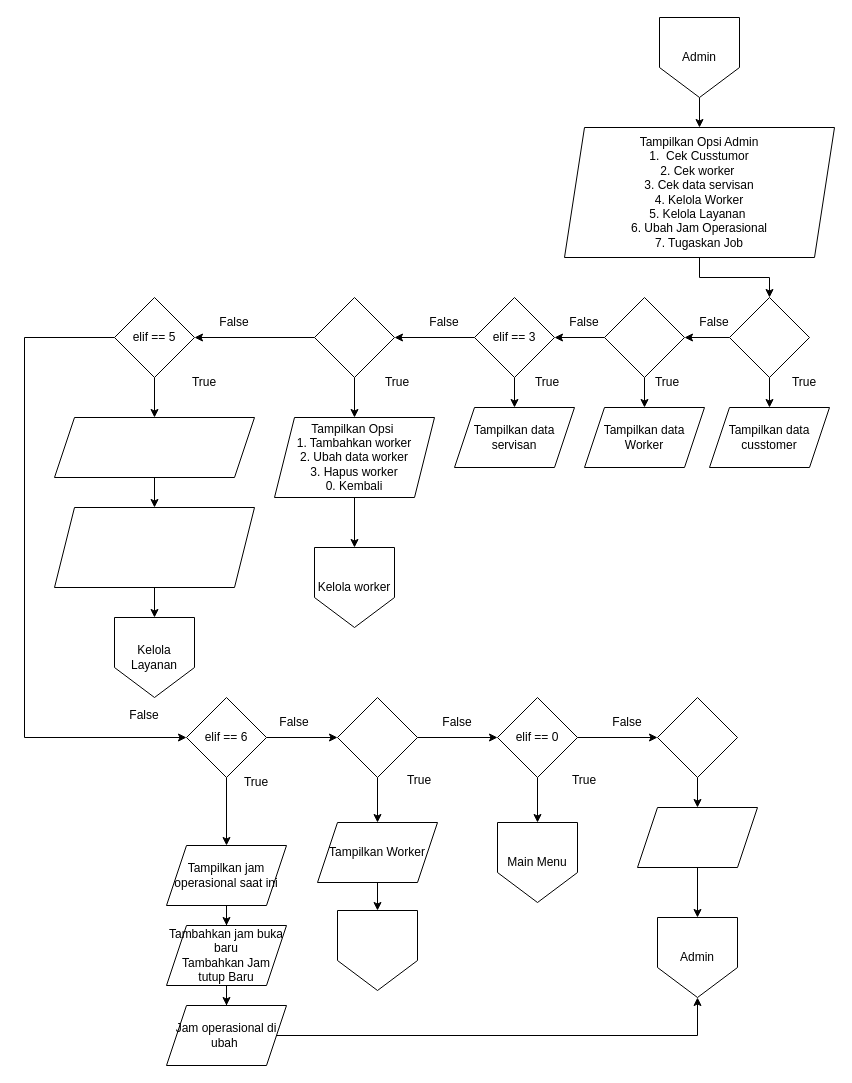
Image size: 852x1083. Some labels were removed from this diagram. Each missing label, with the centre of its shape:
"elif == 2" belongs at pixel 644 337.
"elif == 4" belongs at pixel 354 337.
"elif == 7" belongs at pixel 377 737.
"Else" belongs at pixel 697 737.
"If == 1" belongs at pixel 769 337.
"Penugasan Servis" belongs at pixel 377 950.
"Pilihan tidak valid" belongs at pixel 697 837.
"Tampilkan Layanan Tersedia" belongs at pixel 154 447.
"Tampilkan Opsi 1. Tambahkan Layanan 2. Ubah Layanan 3. Hapus Layanan 0. Kembali" belongs at pixel 154 547.
